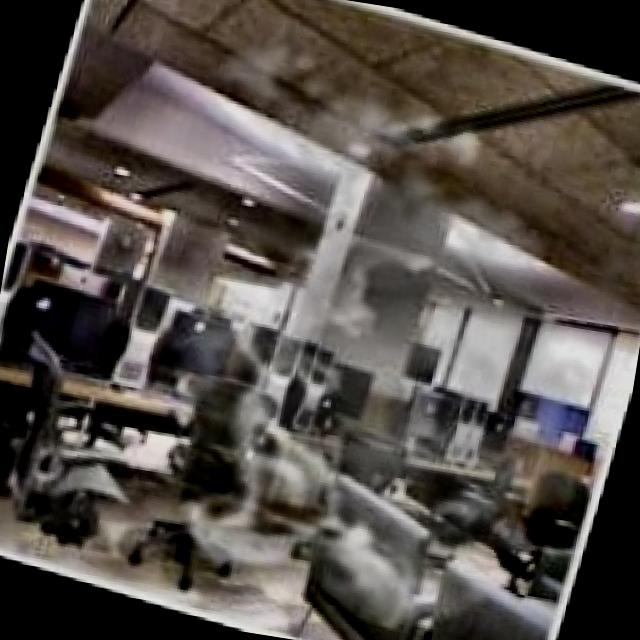smoke: (167, 135, 480, 614)
